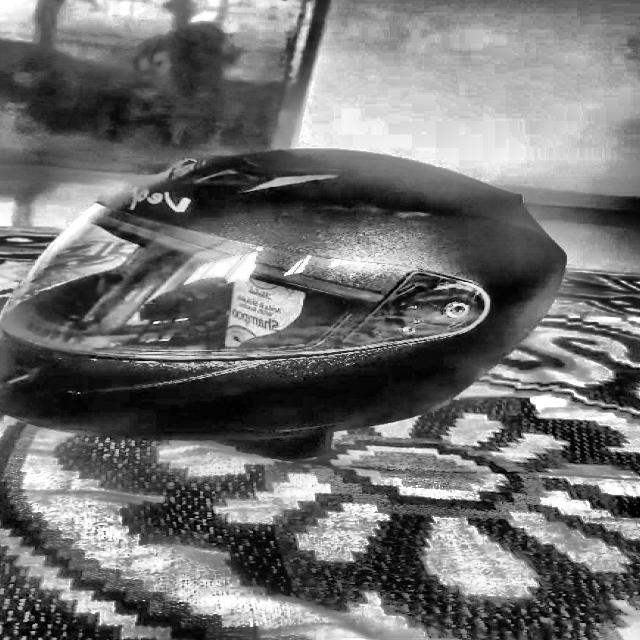Helmet: (0, 146, 583, 454)
